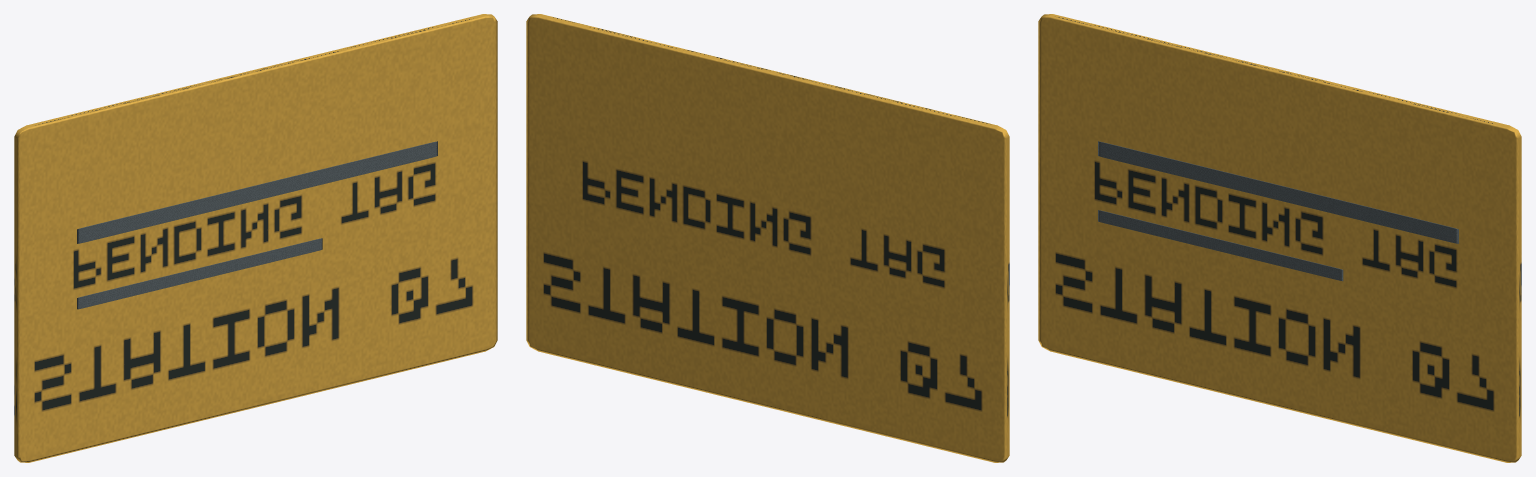
File: pending-tag.glb
The picture shows the model from 3 angles, left to right: view 1: azimuth 30°, elevation 25°; view 2: azimuth 150°, elevation 25°; view 3: azimuth 330°, elevation 25°; orthographic projection.
Visible parts, largest first — view 1: board, stripe, line; view 2: board; view 3: board, stripe, line.
Boxes of the visible parts, bbox=[...] form: board: bbox=[14, 14, 497, 462]; stripe: bbox=[77, 141, 437, 243]; line: bbox=[77, 238, 322, 309]; board: bbox=[526, 14, 1009, 462]; board: bbox=[1038, 14, 1521, 462]; stripe: bbox=[1098, 141, 1458, 243]; line: bbox=[1098, 210, 1343, 281].
Size of the model in its own units: 0.12 by 0.08 by 0.00136.
2 materials, 2 textured.
